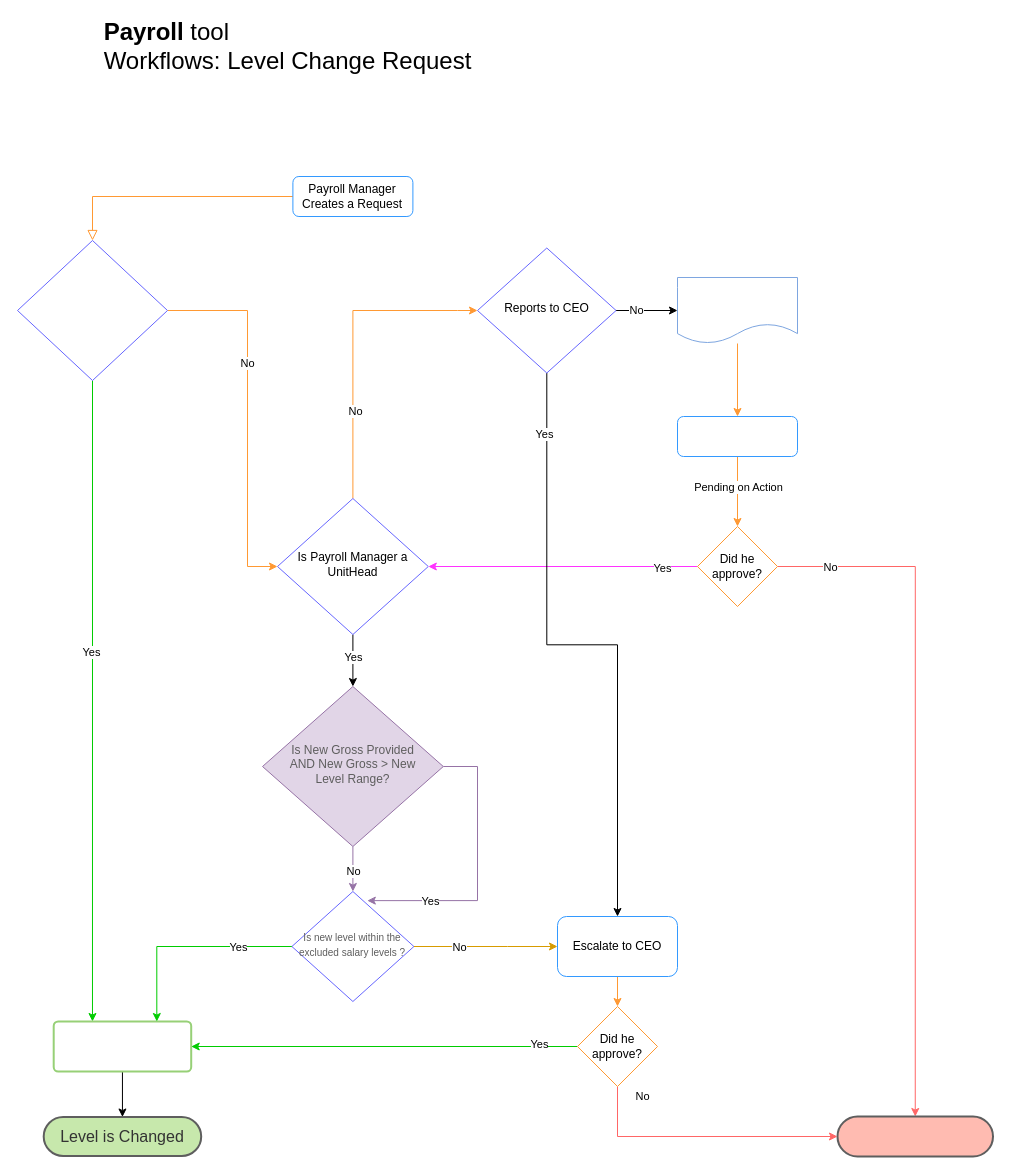
This 1011x1174 diagram has some shape labels left out. Each missing label, with the centre of its shape:
"Escalate to his Manager" goes at point (737, 436).
"Finance Team take action" goes at point (122, 1046).
"Is Payroll Manager a CEO" goes at point (92, 310).
"Payroll Manager is a Normal Manager" goes at point (737, 310).
"Request is Denied" goes at point (915, 1136).
